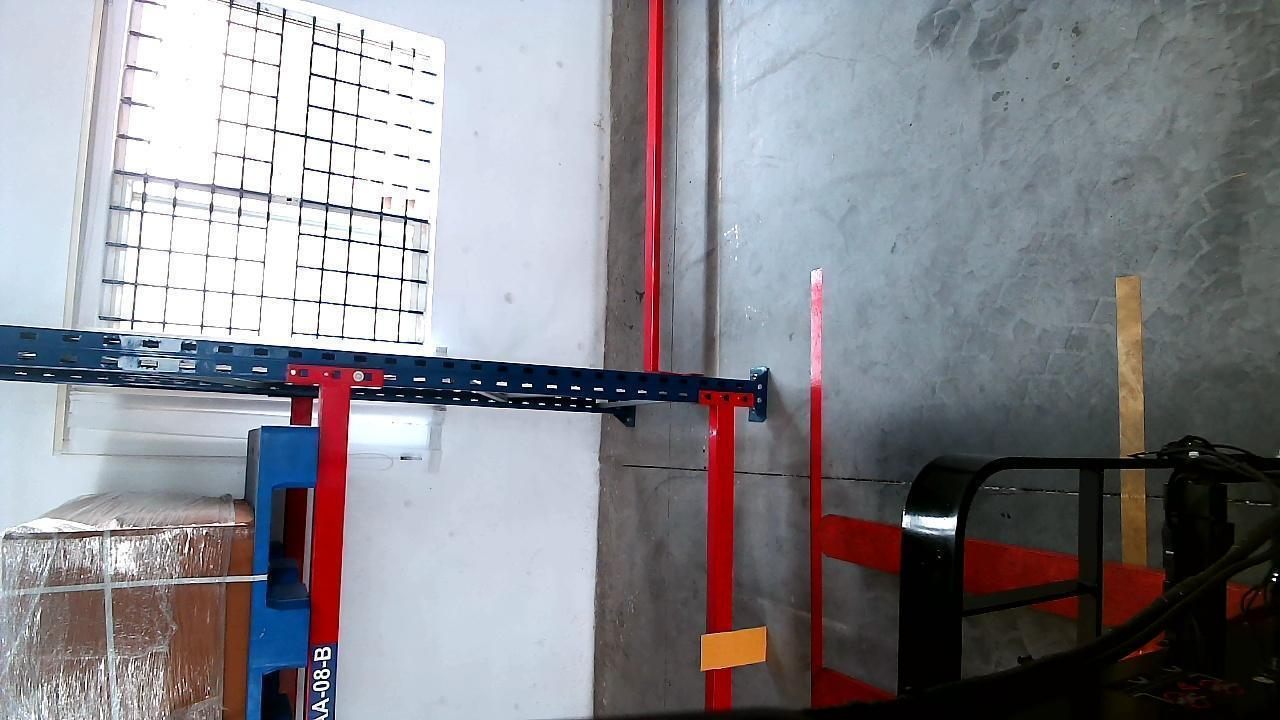red_line: (804, 276, 831, 711)
yellow_line: (1120, 258, 1146, 603)
